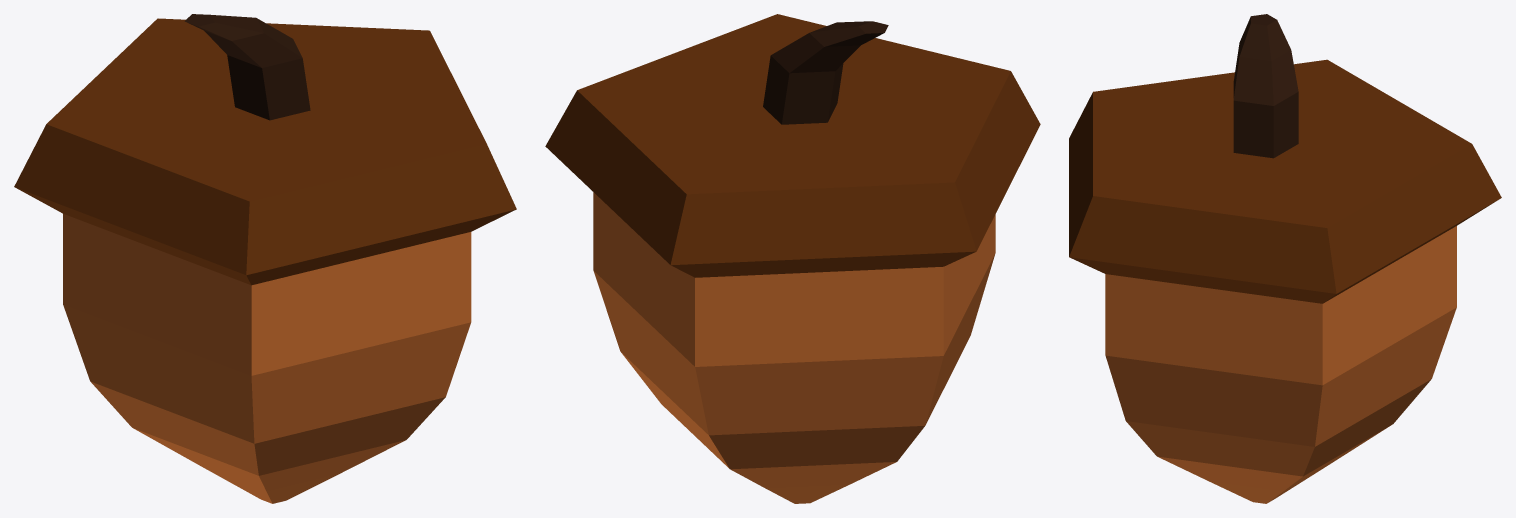
File: Acorn.fbx
3 views of the same model, side by side, from view 1: azimuth 30°, elevation 25°; view 2: azimuth 150°, elevation 25°; view 3: azimuth 270°, elevation 25° (orthographic). The views are drawn at different scales.
Visible parts, largest first — view 1: Acorn; view 2: Acorn; view 3: Acorn.
Part boxes in pixels (x1,y1,x2,y2): Acorn: (14,14,516,503); Acorn: (545,14,1040,503); Acorn: (1069,14,1501,503).
Bounding box in the file's own units: 234 × 254 × 223.
